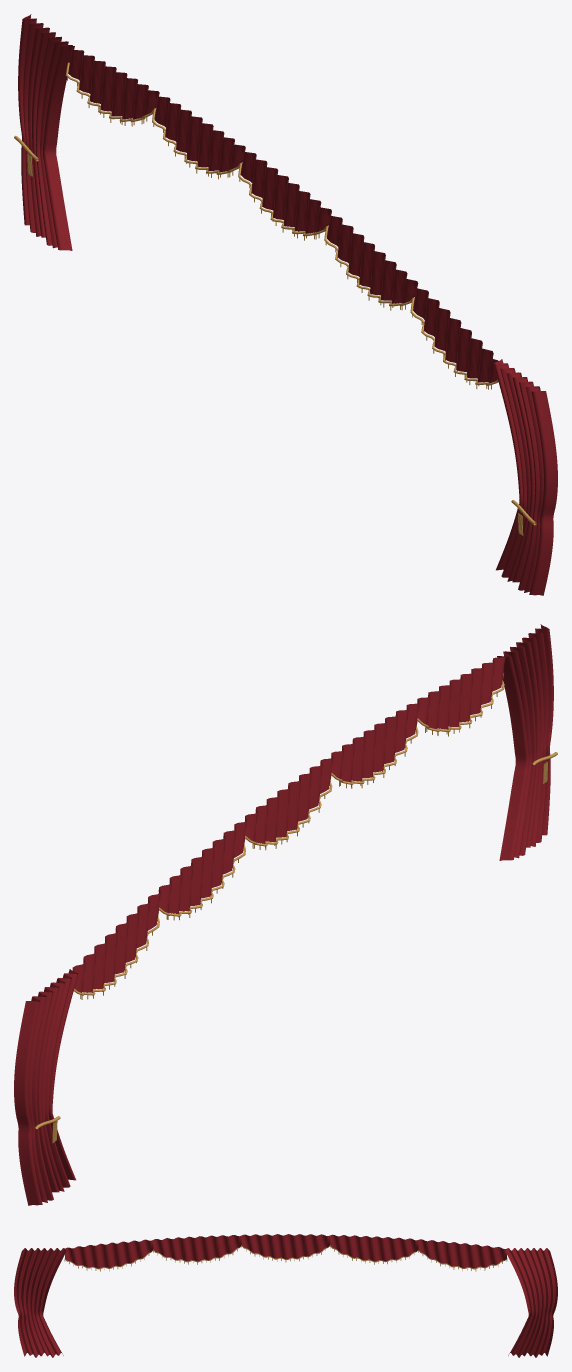
The model's file is SM_CP_PortalVelvetAndFringe.fbx.
3 views of the same model, one above another, from view 1: azimuth 30°, elevation 25°; view 2: azimuth 150°, elevation 25°; view 3: azimuth 270°, elevation 25° (orthographic). The views are drawn at different scales.
Parts seen in each view (by area): view 1: SM_CP_PortalVelvetAndFringe; view 2: SM_CP_PortalVelvetAndFringe; view 3: SM_CP_PortalVelvetAndFringe.
Part boxes in pixels (x1=…): SM_CP_PortalVelvetAndFringe: x1=14, y1=14, x2=557, y2=595; SM_CP_PortalVelvetAndFringe: x1=14, y1=624, x2=557, y2=1205; SM_CP_PortalVelvetAndFringe: x1=14, y1=1234, x2=557, y2=1357.
Size of the model in its own units: 55.5 by 2486 by 614.
